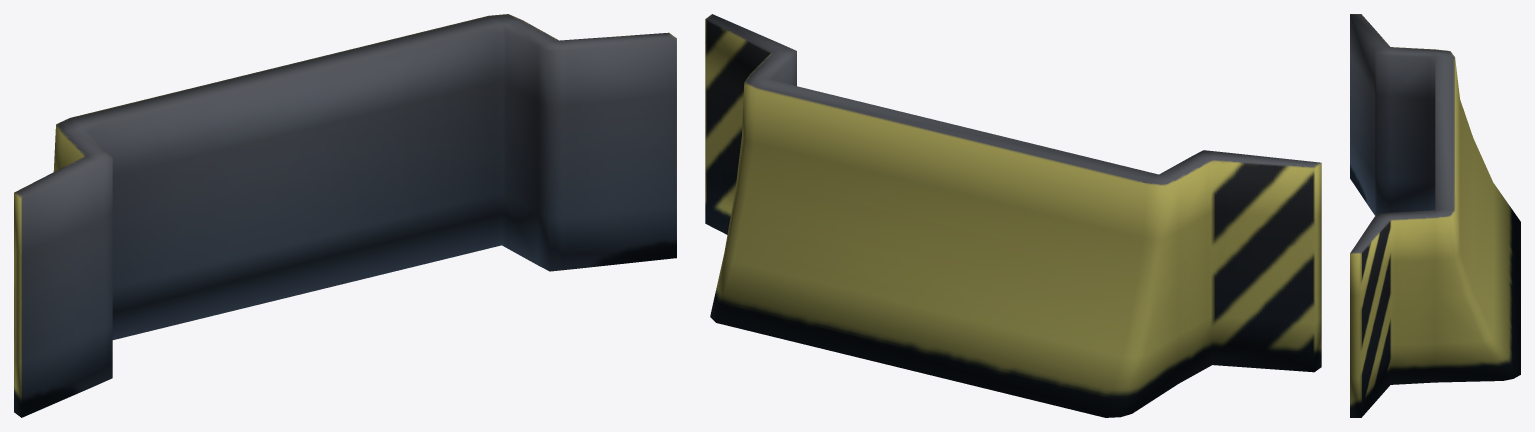
Rendered from mesh_bumper01.fbx.
The picture shows the model from 3 angles, left to right: view 1: azimuth 30°, elevation 25°; view 2: azimuth 150°, elevation 25°; view 3: azimuth 270°, elevation 25°; orthographic projection. The views are drawn at different scales.
Visible parts, largest first — view 1: mesh_bumper01; view 2: mesh_bumper01; view 3: mesh_bumper01.
Boxes of the visible parts, x1,y1,x2,y2 form: mesh_bumper01: [14, 14, 676, 417]; mesh_bumper01: [705, 14, 1321, 417]; mesh_bumper01: [1350, 14, 1520, 417].
Size of the model in its own units: 96.38 by 30.9 by 29.05.
